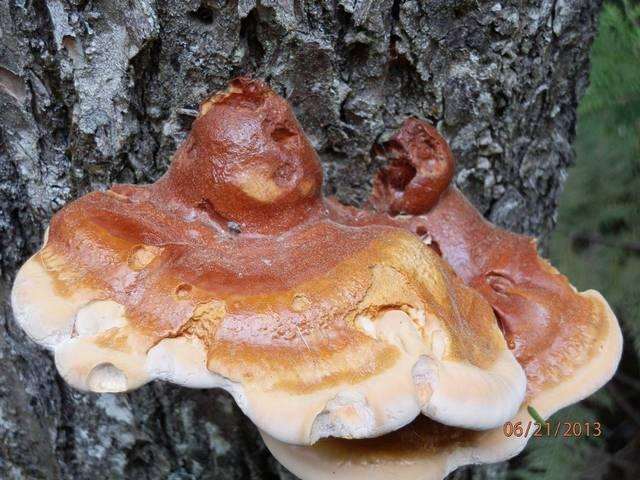Non-edible Mushroom: (8, 74, 623, 479)
